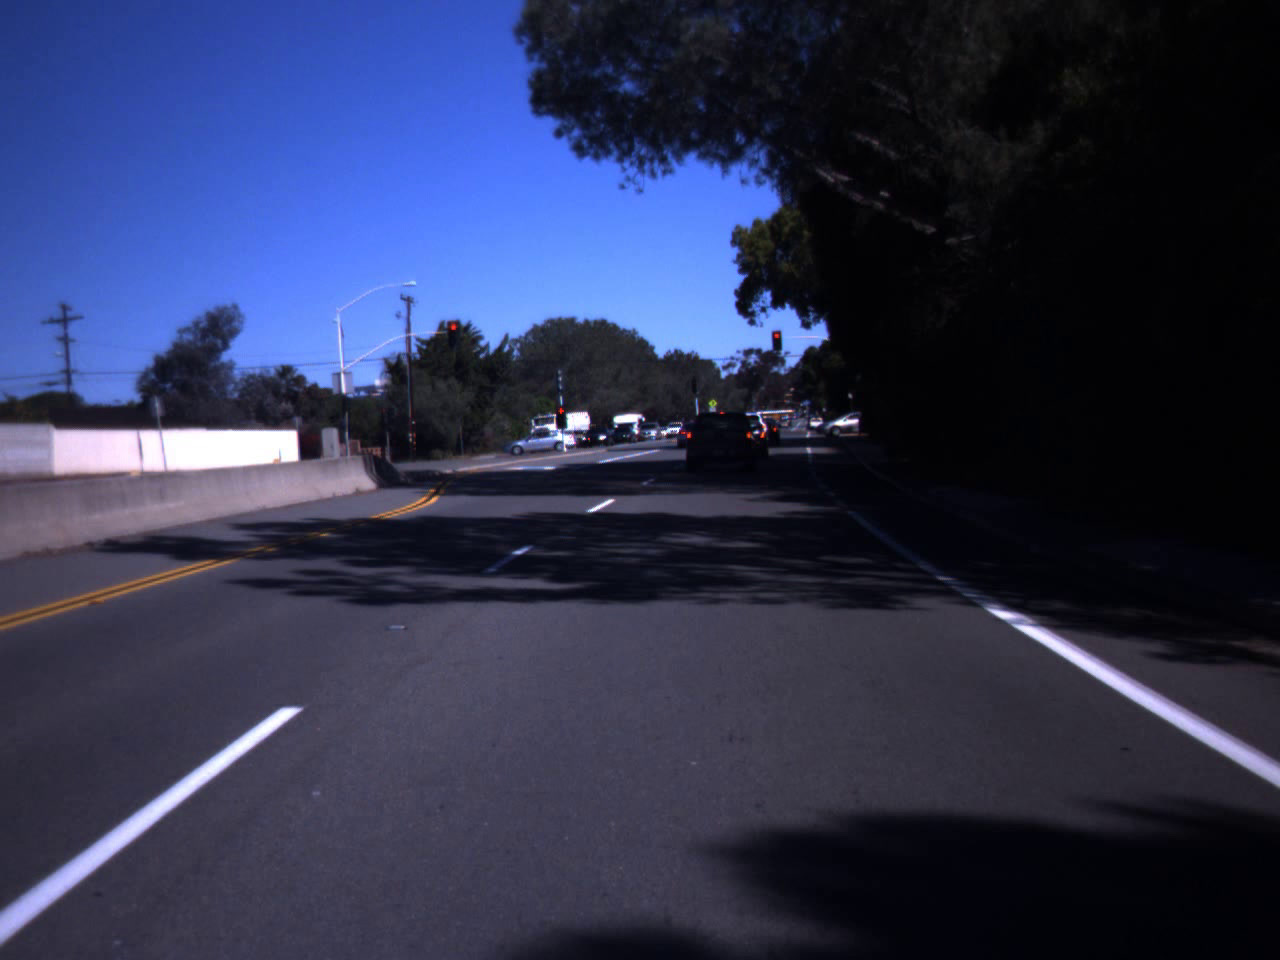stop: (447, 322, 460, 344), (556, 405, 568, 427), (770, 332, 782, 350)
